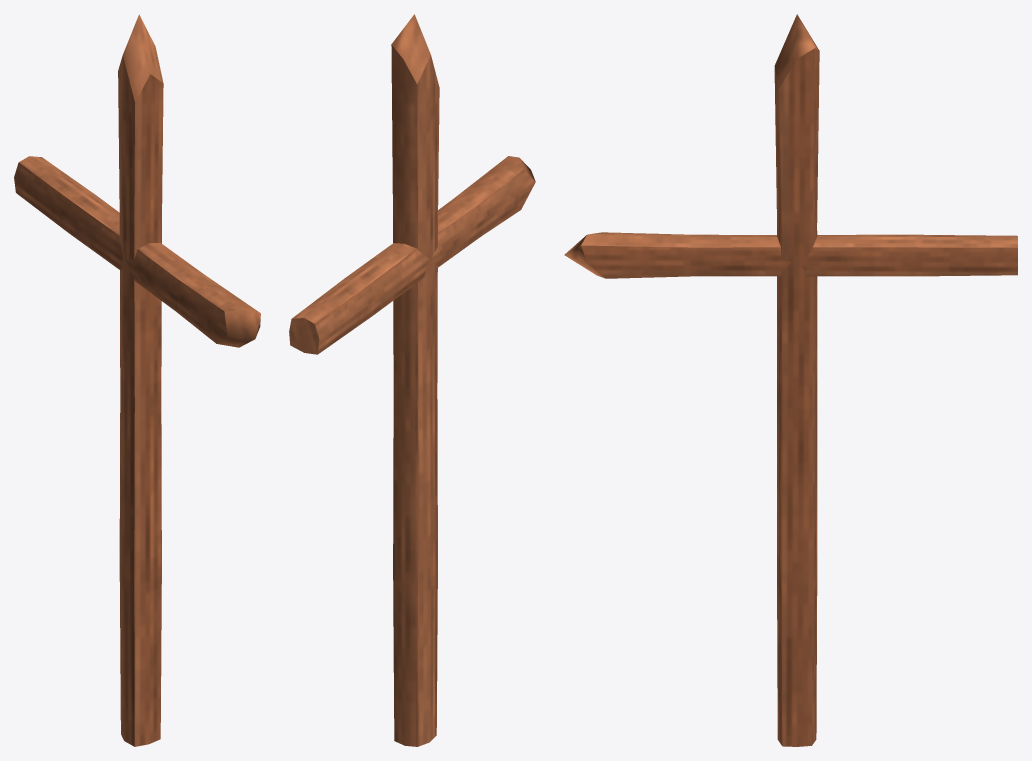
The model's file is Cruz.fbx.
3 renders of one model, left to right at view 1: azimuth 30°, elevation 25°; view 2: azimuth 150°, elevation 25°; view 3: azimuth 270°, elevation 25°, orthographic.
Visible parts, largest first — view 1: polySurface106; view 2: polySurface106; view 3: polySurface106.
Part boxes in pixels (x1,y1,x2,y2): polySurface106: (14,14,260,746); polySurface106: (289,14,535,746); polySurface106: (564,14,1017,746).
Bounding box in the file's own units: 0.0835 × 1.76 × 0.9957.
Materials: 1 (1 with a texture image).
